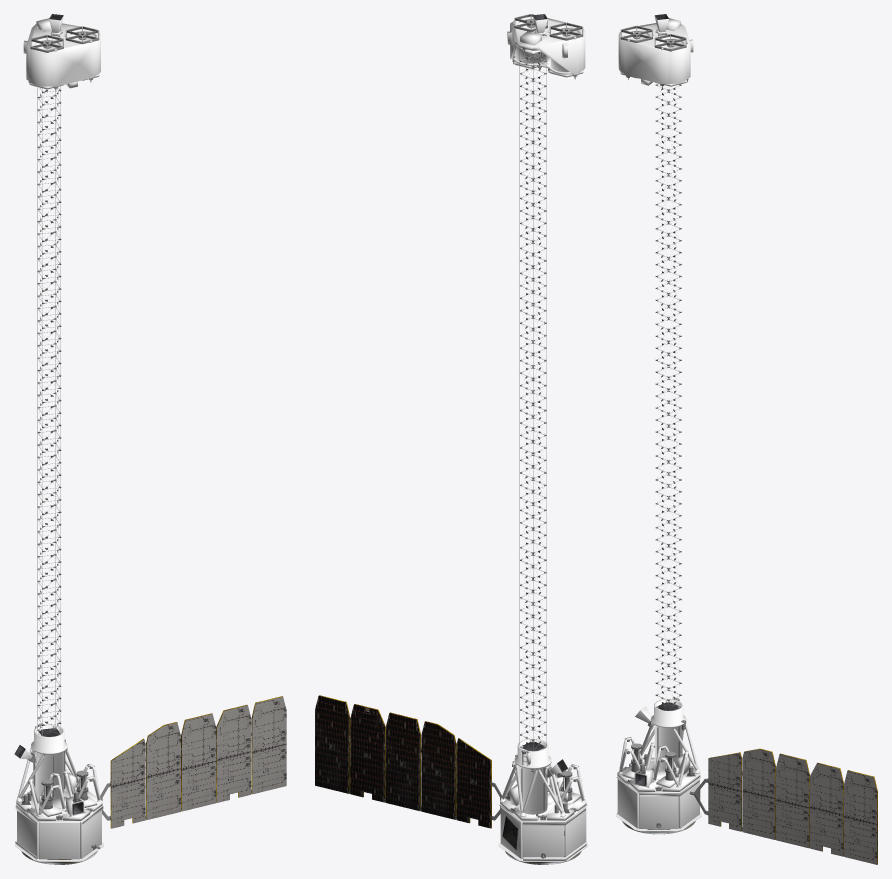
Rendered from sc_nustar.glb.
The picture shows the model from 3 angles, left to right: view 1: azimuth 30°, elevation 25°; view 2: azimuth 150°, elevation 25°; view 3: azimuth 330°, elevation 25°; orthographic projection. The views are drawn at different scales.
Visible parts, largest first — view 1: tex_02, foil_silver, foil_silver.002, foil_silver.001, boom_02, boom_01, boom_03, tex_01, parts_AO_04, parts_AO_02; view 2: shiny panel, foil_silver, foil_silver.001, boom_03, boom_02, boom_01, foil_silver.002, tex_01, parts_AO_04; view 3: tex_02, foil_silver, foil_silver.002, foil_silver.001, boom_02, boom_01, boom_03, tex_01, parts_AO_04, parts_AO_02.
Part boxes in pixels (x1,y1,x2,y2): tex_02: (47, 696, 286, 859); foil_silver: (15, 15, 103, 861); foil_silver.002: (26, 23, 100, 86); foil_silver.001: (17, 810, 101, 859); boom_02: (37, 282, 61, 514); boom_01: (37, 505, 61, 735); boom_03: (37, 86, 61, 291); tex_01: (14, 14, 282, 864); parts_AO_04: (30, 26, 99, 52); parts_AO_02: (28, 723, 88, 809); shiny panel: (315, 696, 490, 828); foil_silver: (498, 15, 587, 861); foil_silver.001: (500, 807, 586, 858); boom_03: (519, 48, 546, 304); boom_02: (519, 296, 546, 528); boom_01: (519, 518, 546, 750); foil_silver.002: (510, 16, 585, 74); tex_01: (319, 14, 581, 864); parts_AO_04: (514, 14, 583, 40); tex_02: (647, 749, 876, 864); foil_silver: (616, 16, 701, 831); foil_silver.002: (618, 23, 690, 83); foil_silver.001: (617, 778, 699, 828); boom_02: (655, 277, 681, 497); boom_01: (655, 493, 681, 710); boom_03: (655, 84, 681, 282); tex_01: (622, 14, 877, 864); parts_AO_04: (620, 25, 686, 51); parts_AO_02: (631, 698, 685, 780).
Bounding box in the file's own units: 0.624 × 1.89 × 0.1833.
Materials: 9 (8 with a texture image).
